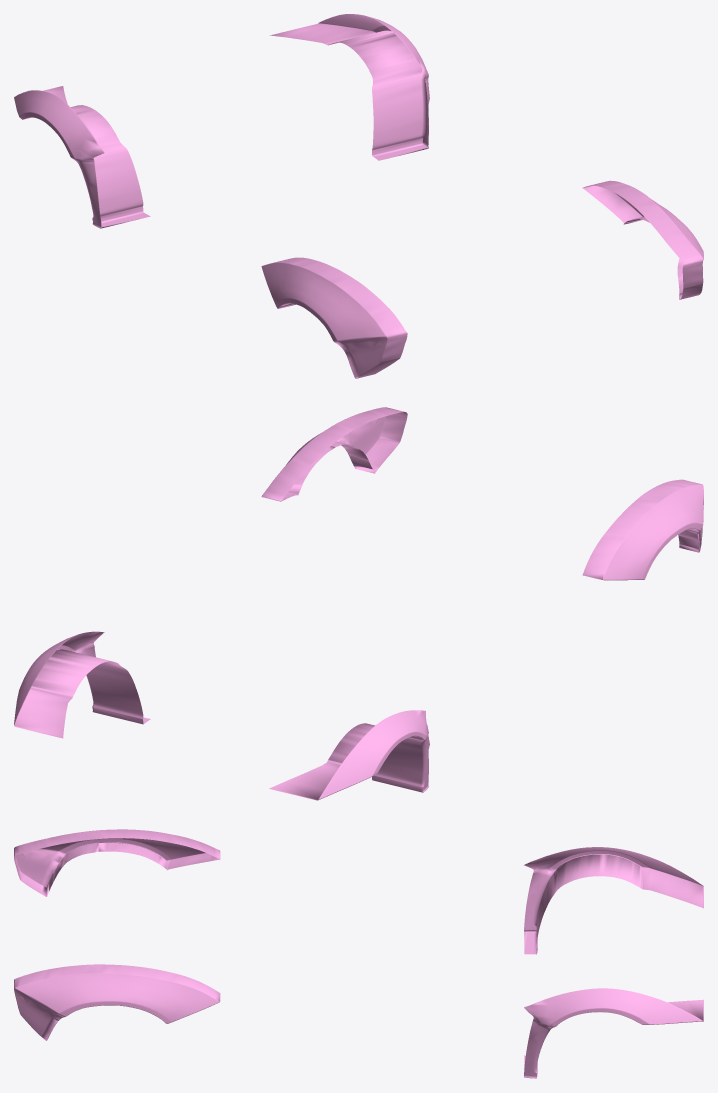
The picture shows the model from 3 angles, top to bottom: view 1: azimuth 30°, elevation 25°; view 2: azimuth 150°, elevation 25°; view 3: azimuth 270°, elevation 25°; orthographic projection. The views are drawn at different scales.
Parts seen in each view (by area): view 1: Object_49; view 2: Object_49; view 3: Object_49.
Boxes of the visible parts, x1,y1,x2,y2 form: Object_49: (14,14,703,378); Object_49: (14,407,703,800); Object_49: (14,829,703,1078).
Bounding box in the file's own units: 2.12 × 0.6297 × 3.79.
